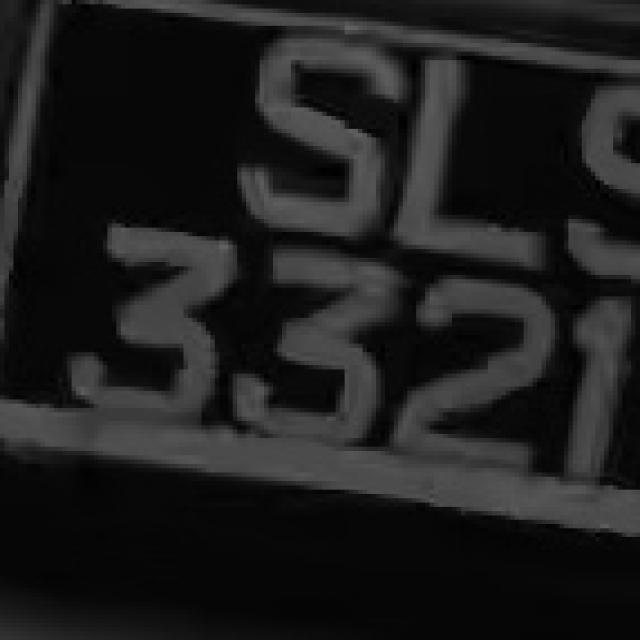1: (546, 288, 640, 515)
2: (390, 266, 560, 507)
3: (76, 189, 228, 438), (242, 219, 394, 455)
L: (394, 34, 546, 275)
S: (233, 22, 389, 249), (546, 69, 640, 296)
